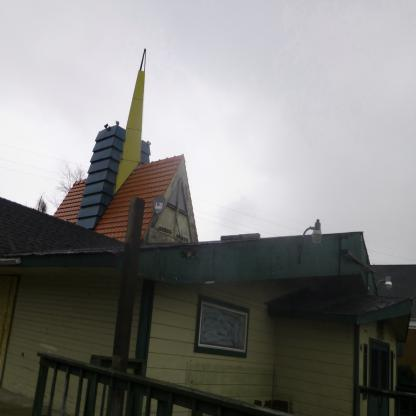door: (368, 342, 391, 416)
